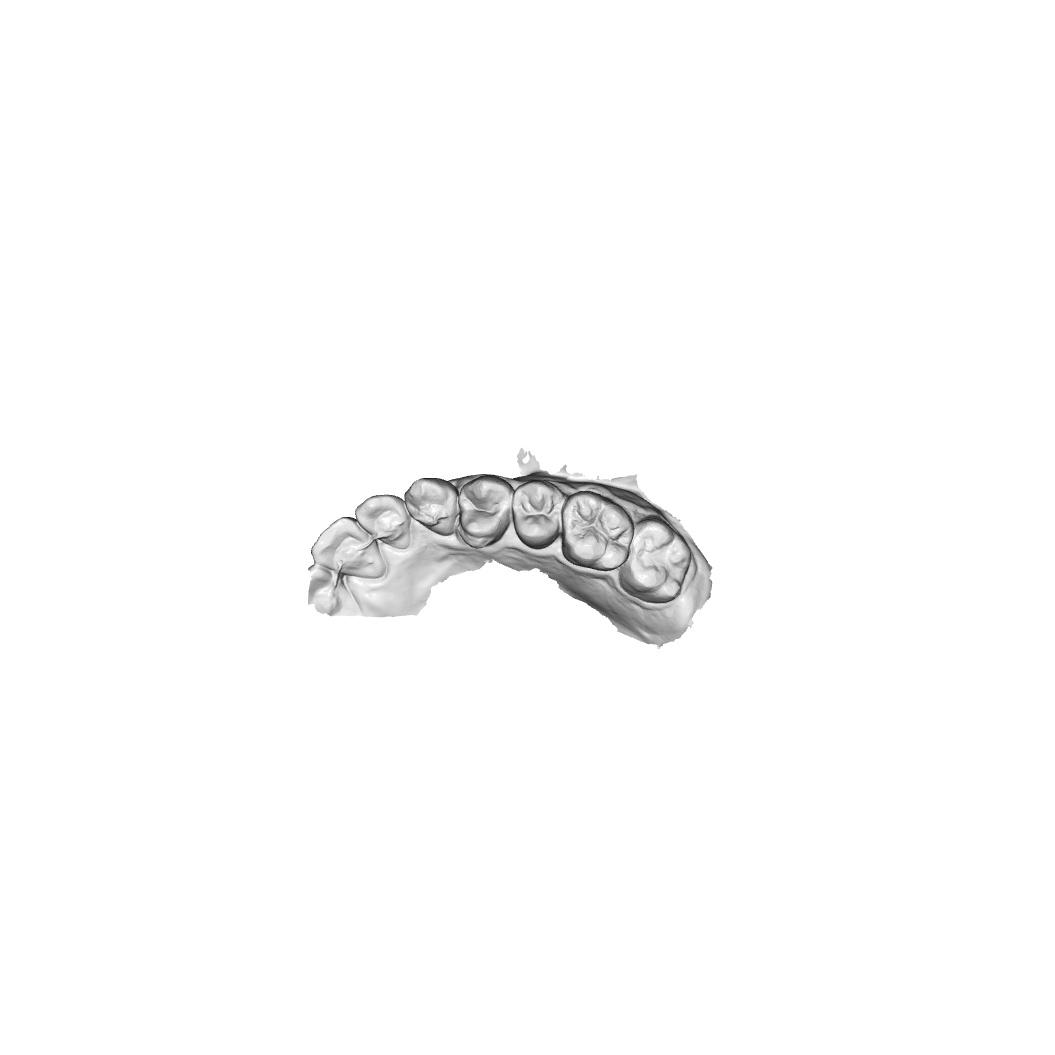canine: (404, 476, 461, 538)
incisor: (309, 515, 388, 580), (354, 492, 412, 551)
molar: (618, 517, 692, 605), (560, 490, 634, 572)
premolar: (457, 474, 515, 550), (511, 477, 567, 550)
